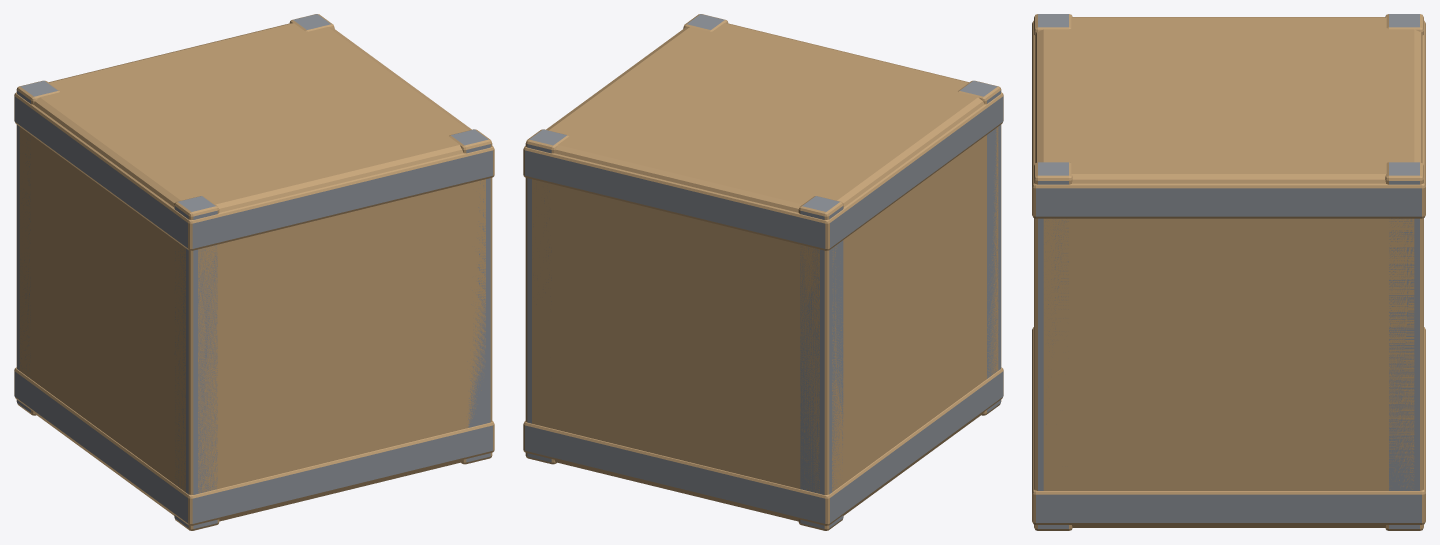
File: Obstacle_Crate.fbx
3 renders of one model, left to right at view 1: azimuth 30°, elevation 25°; view 2: azimuth 150°, elevation 25°; view 3: azimuth 270°, elevation 25°, orthographic. The views are drawn at different scales.
Visible parts, largest first — view 1: Obstacle_Crate; view 2: Obstacle_Crate; view 3: Obstacle_Crate.
Boxes of the visible parts, x1,y1,x2,y2 form: Obstacle_Crate: [14, 14, 494, 530]; Obstacle_Crate: [523, 14, 1003, 530]; Obstacle_Crate: [1032, 14, 1425, 530].
Bounding box in the file's own units: 19998 × 19899 × 19998.
